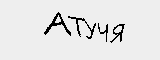А: (41, 9, 73, 37)
Т: (68, 13, 86, 38)
У: (83, 17, 98, 41)
Ч: (95, 20, 112, 45)
Я: (109, 20, 125, 47)
